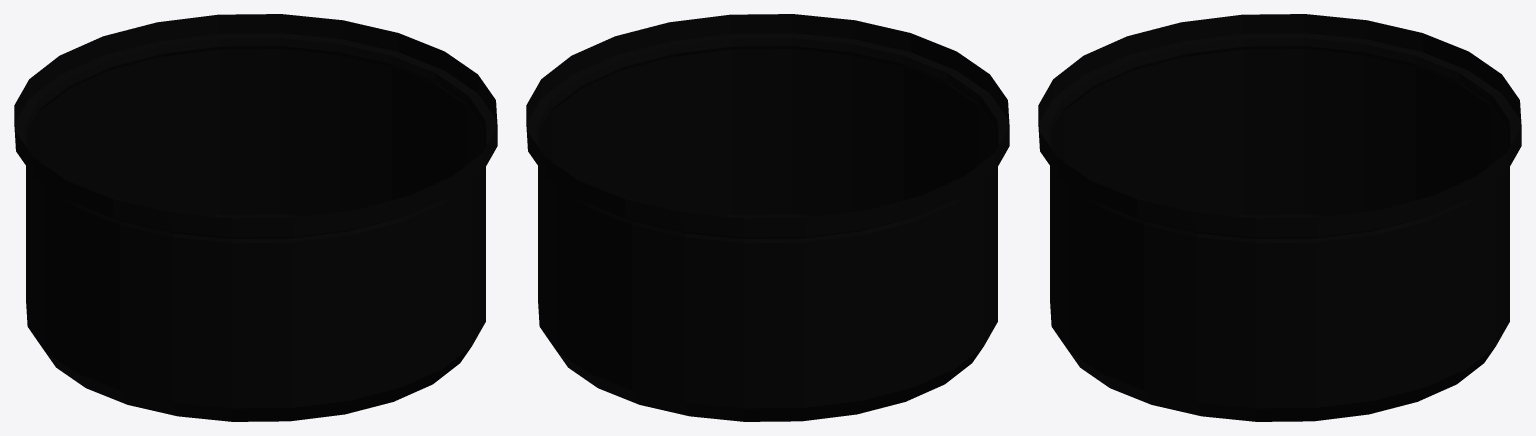
File: mesh36.dat.obj
The picture shows the model from 3 angles, left to right: view 1: azimuth 30°, elevation 25°; view 2: azimuth 150°, elevation 25°; view 3: azimuth 270°, elevation 25°; orthographic projection.
Visible parts, largest first — view 1: Metal_Bowl_low; view 2: Metal_Bowl_low; view 3: Metal_Bowl_low.
Part boxes in pixels (left/top/right/bottom): Metal_Bowl_low: left=14, top=14, right=497, bottom=421; Metal_Bowl_low: left=526, top=14, right=1009, bottom=421; Metal_Bowl_low: left=1038, top=14, right=1521, bottom=421.
Size of the model in its own units: 3.41 by 1.66 by 3.41.
Materials: 1 (1 with a texture image).
